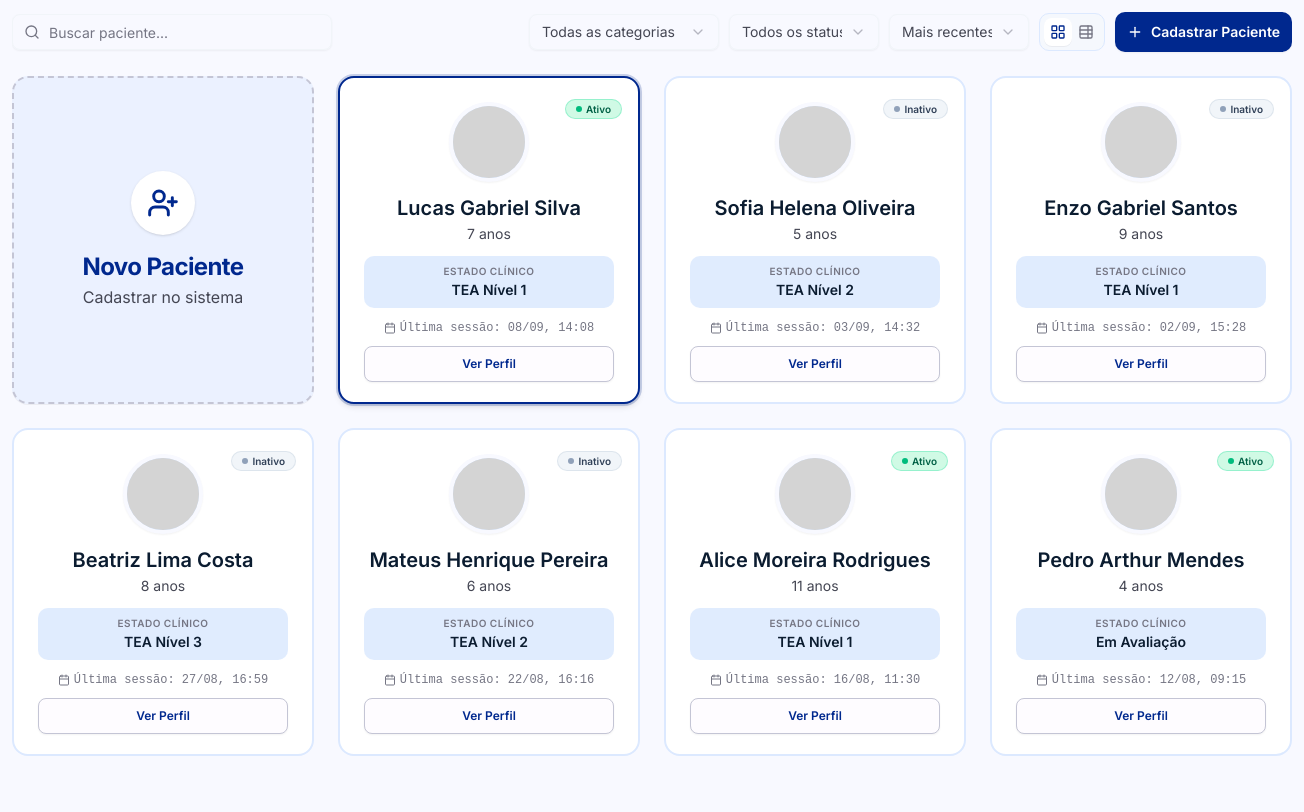
Componente ListaPacientes (Alternador Tabela vs Grid de Cards) › deve alternar para visualização em Tabela ao clicar no botão correspondente
The width and height of the screenshot is (1304, 812).
Click the button with test id "toggle-view-table": (1086, 32) [1072, 18, 1100, 46]
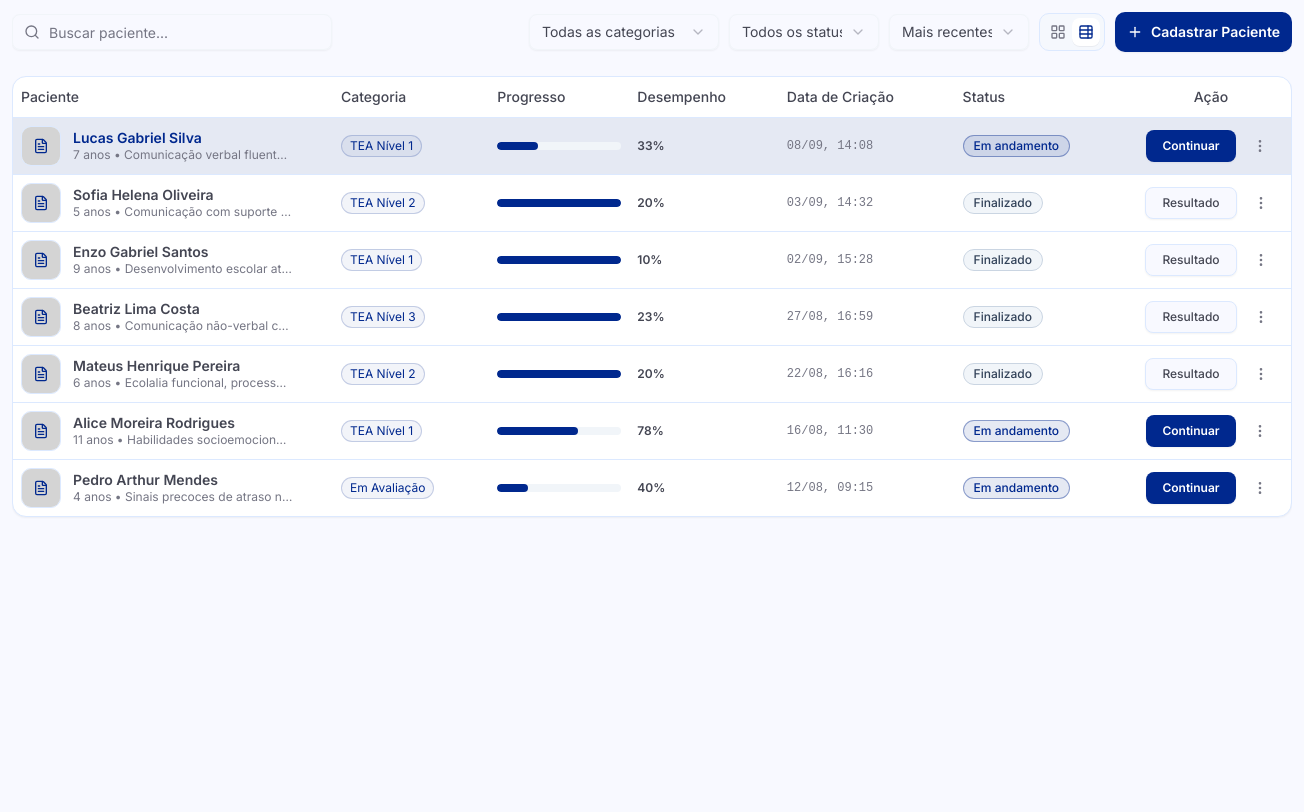
Check: the column heading "Categoria" is shown, box [333, 77, 489, 117]
Check: the column heading "Progresso" is shown, box [489, 77, 629, 117]
Check: the column heading "Data de Criação" is shown, box [779, 77, 955, 117]
